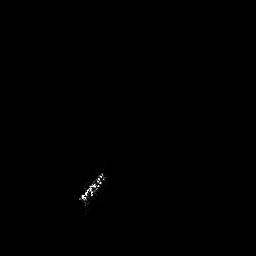ship: (75, 169, 109, 208)
